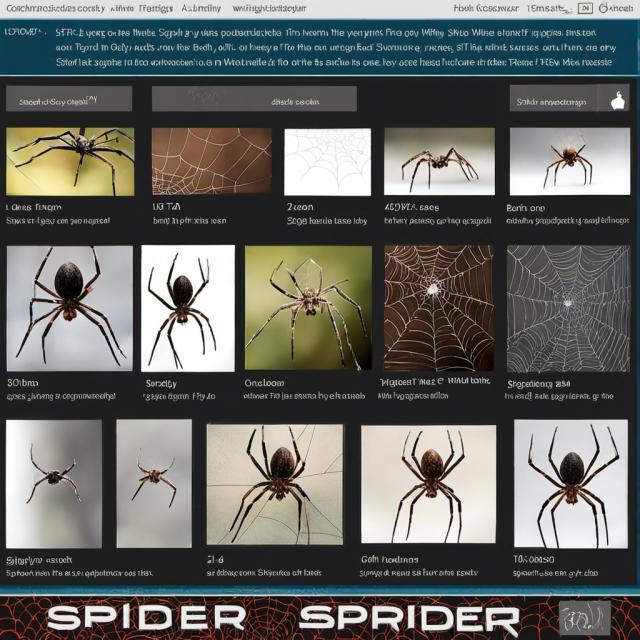spider: (248, 256, 370, 366), (20, 247, 124, 370), (526, 420, 619, 547), (229, 424, 320, 548), (142, 251, 224, 371), (396, 428, 470, 544), (12, 128, 135, 194), (395, 139, 482, 191), (22, 444, 87, 508), (127, 450, 183, 509), (545, 139, 600, 190)
